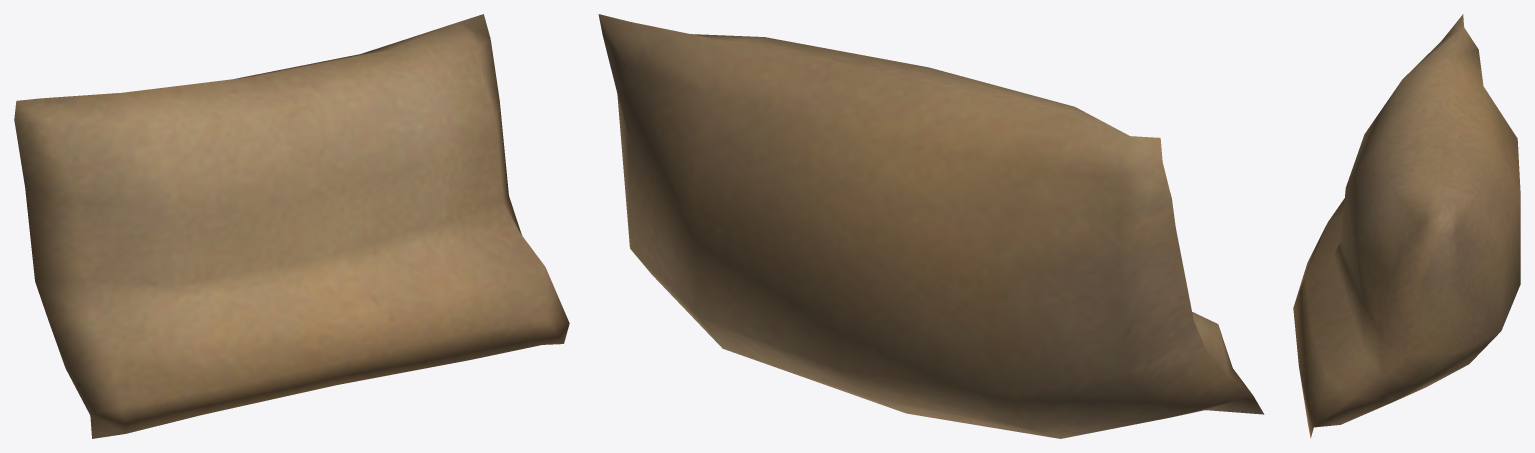
Rendered from sack_001.fbx.
3 renders of one model, left to right at view 1: azimuth 30°, elevation 25°; view 2: azimuth 150°, elevation 25°; view 3: azimuth 270°, elevation 25°, orthographic. The views are drawn at different scales.
Visible parts, largest first — view 1: sack.001; view 2: sack.001; view 3: sack.001.
Boxes of the visible parts, left/top/right/bottom form: sack.001: left=14, top=14, right=569, bottom=438; sack.001: left=598, top=14, right=1264, bottom=438; sack.001: left=1293, top=14, right=1520, bottom=438.
Size of the model in its own units: 69.07 by 40.57 by 34.91.
